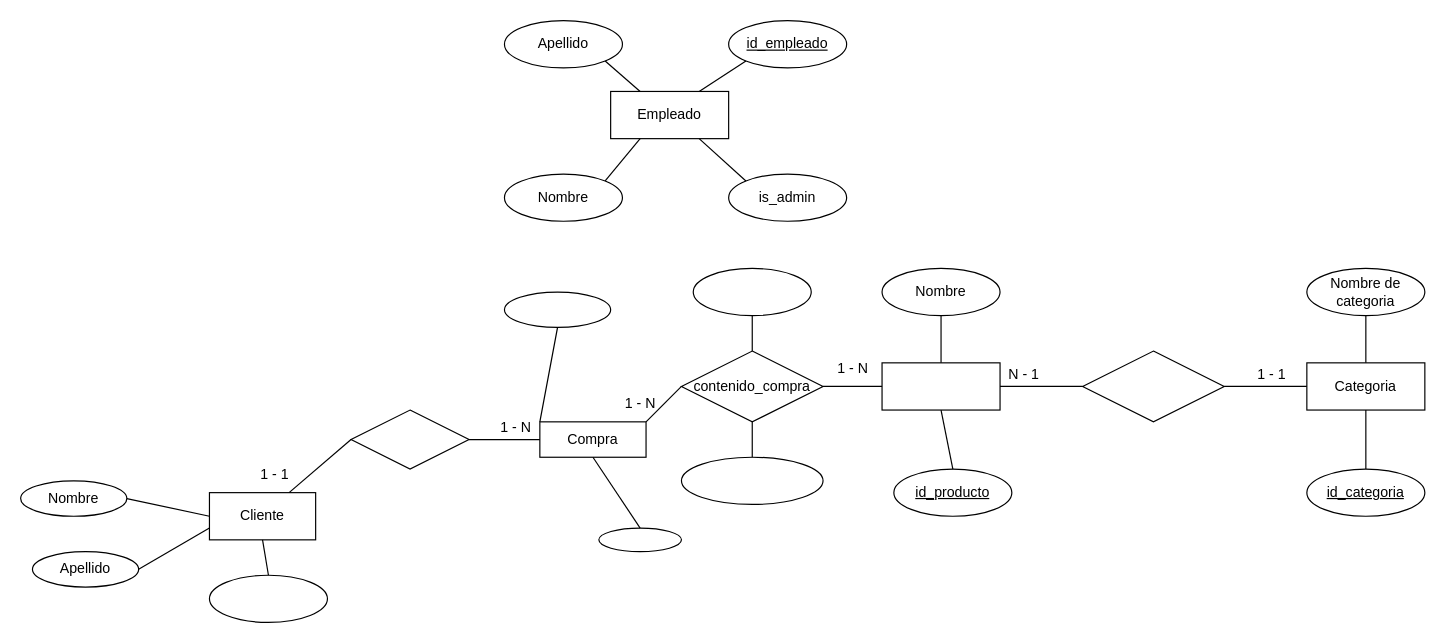
This 1445x643 diagram has some shape labels left out. The box of each missing label's shape, as (x1, y1, x2, y2) in pixels:
Cantidad: (680, 456, 823, 504)
cate_producto: (1081, 350, 1224, 422)
cliente_compra: (350, 409, 469, 469)
Estado: (692, 267, 811, 316)
Fecha: (598, 527, 681, 552)
id_cliente: (208, 574, 327, 622)
id_compra: (503, 291, 611, 327)
Producto: (881, 362, 1000, 410)
